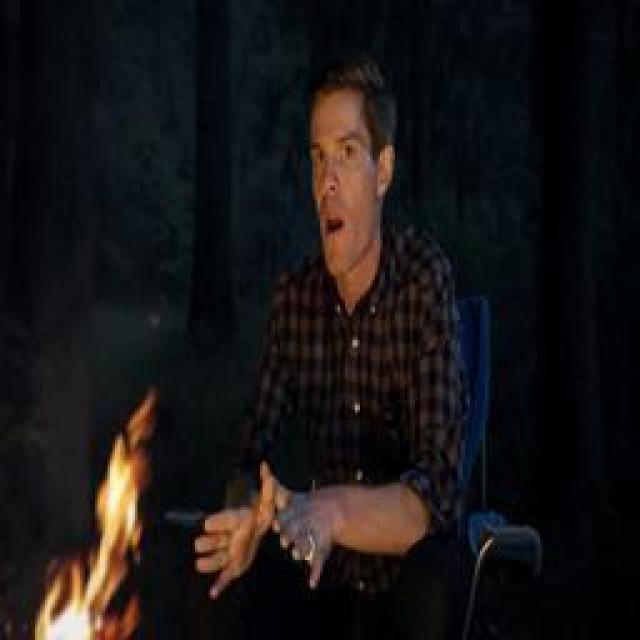Fire: (28, 392, 154, 640)
